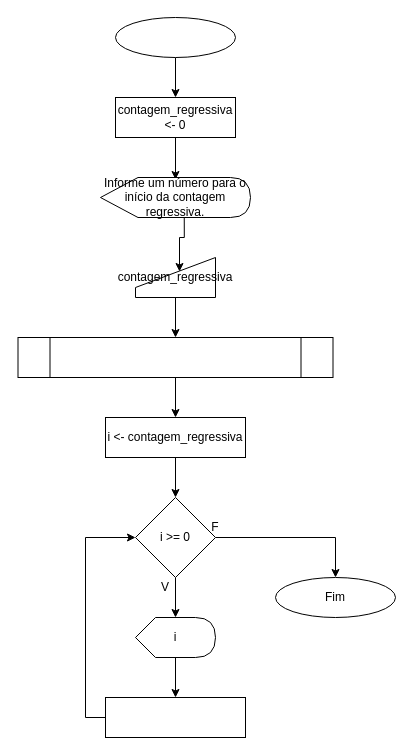
The diagram is 413 pixels wide and 755 high, and some of its shapes have lost their labels. The centre of each missing label's shape, as x and y in pixels:
contagemRegressiva( contagem_regressiva ): pixel 175 357
i <- i - 1: pixel 175 717
Início: pixel 175 37
